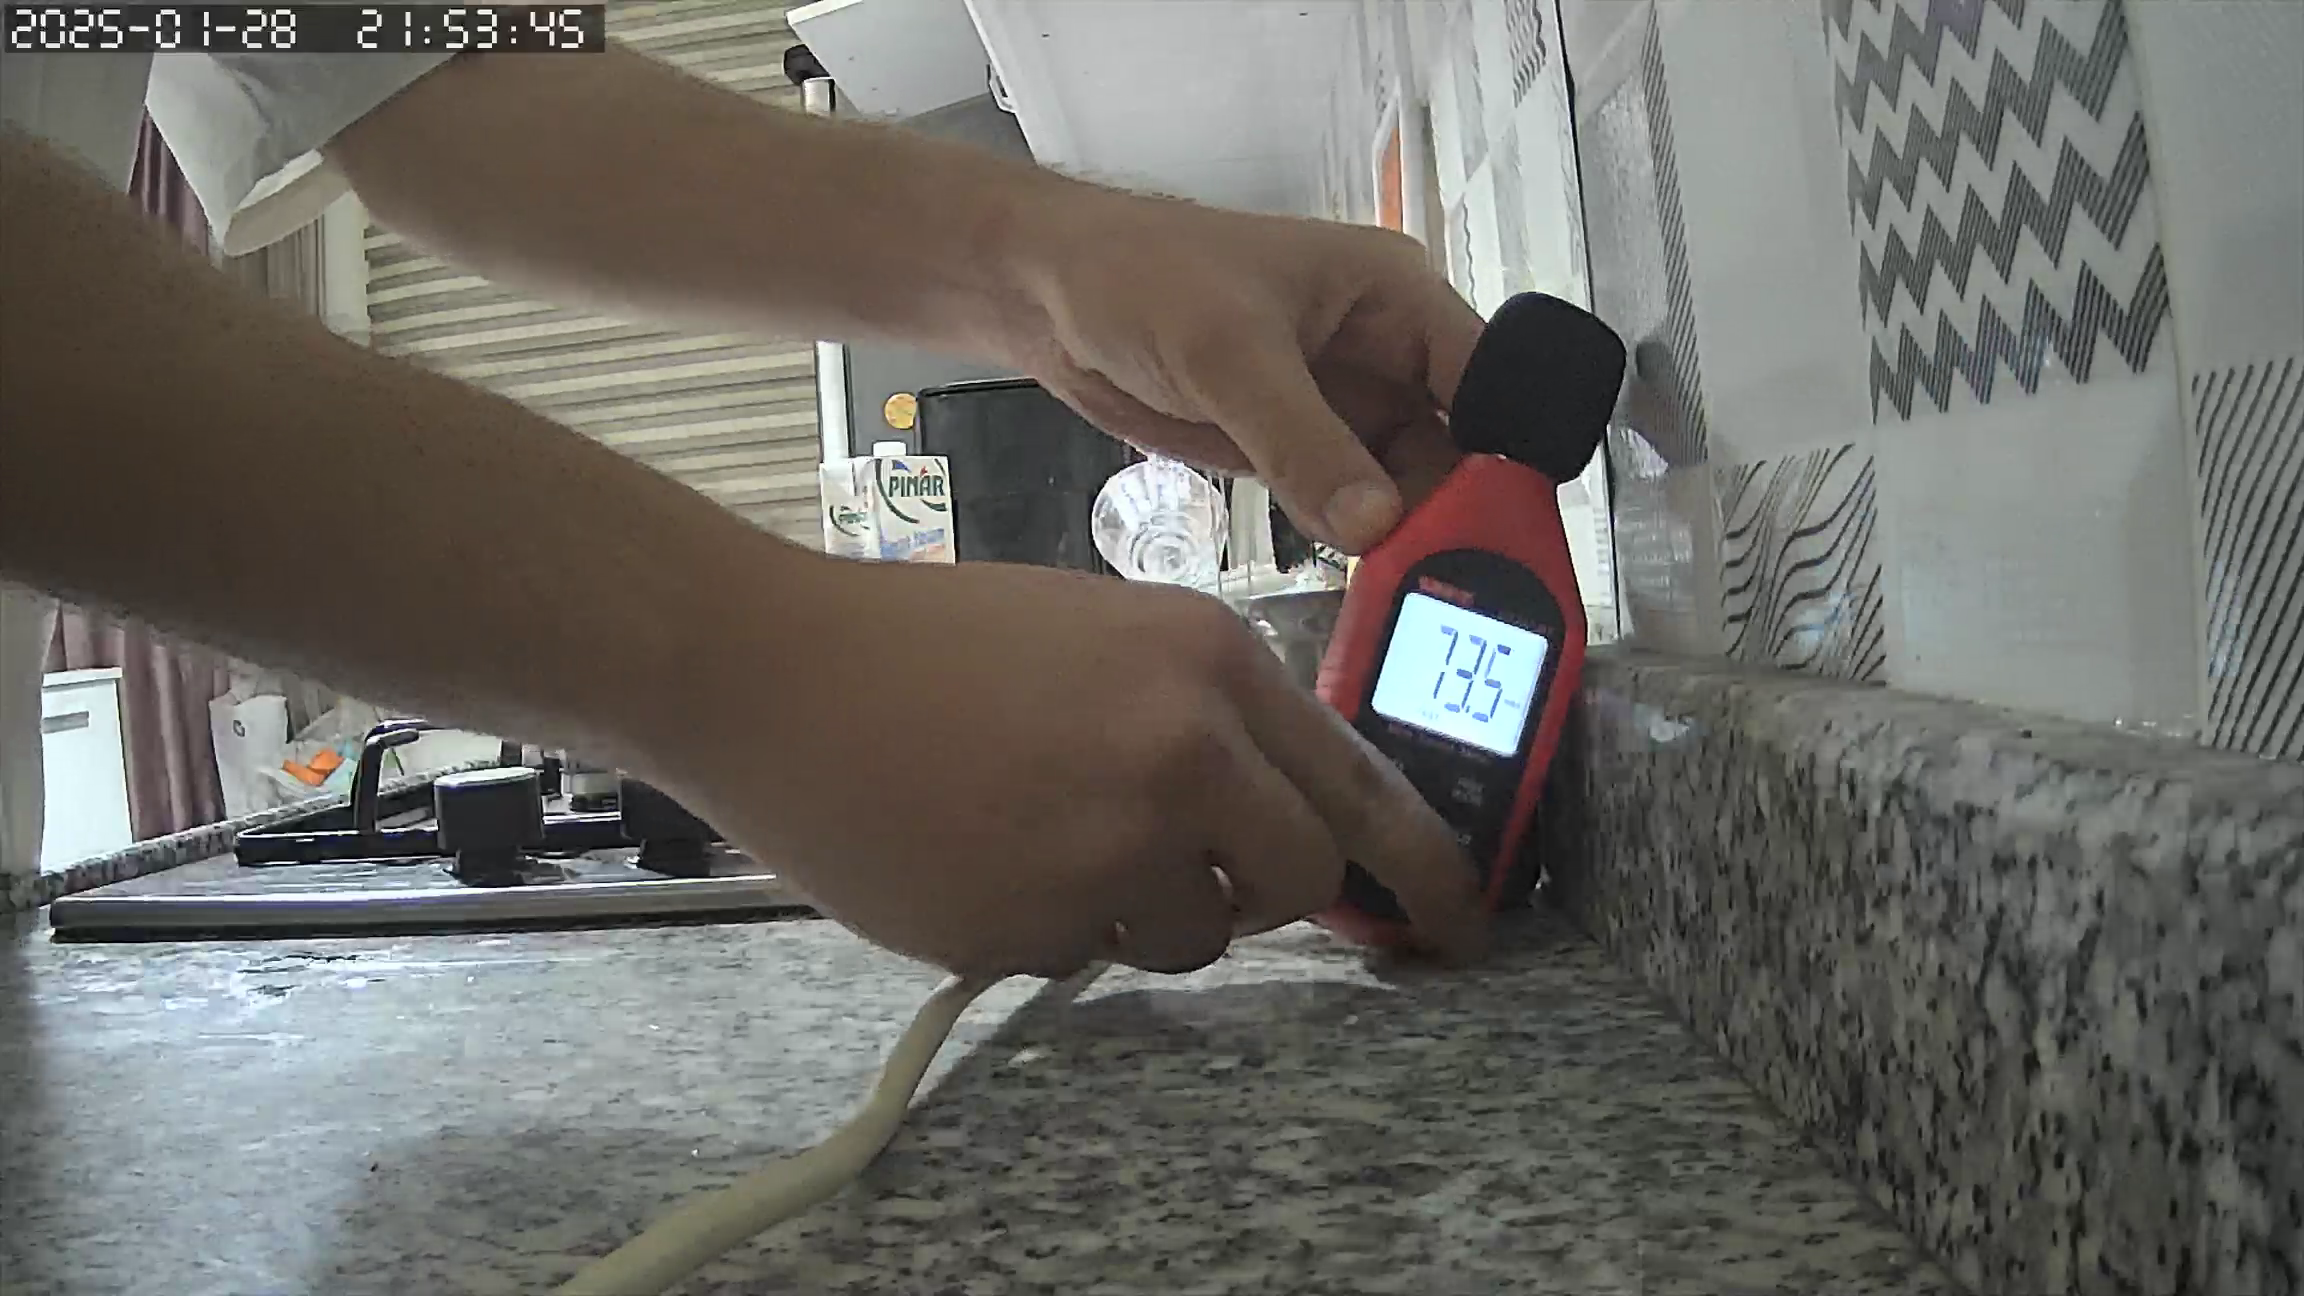screen: (1370, 590, 1544, 760)
